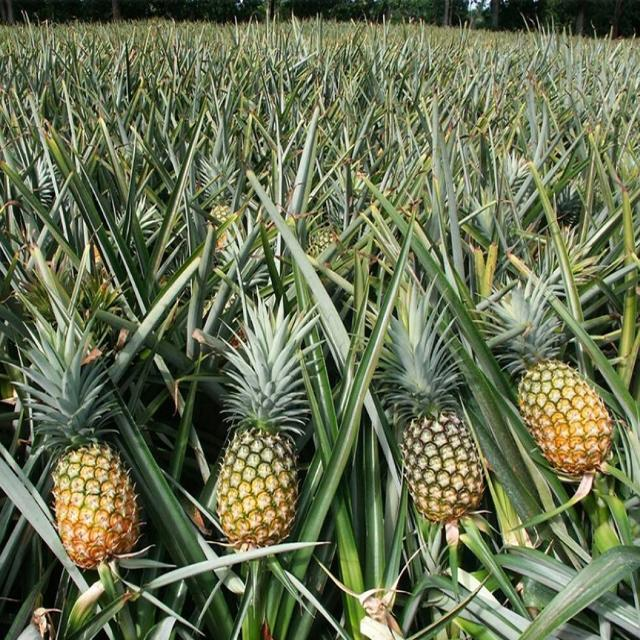pineapple: (39, 398, 143, 567), (396, 377, 489, 524), (517, 360, 616, 482), (214, 424, 300, 548)
